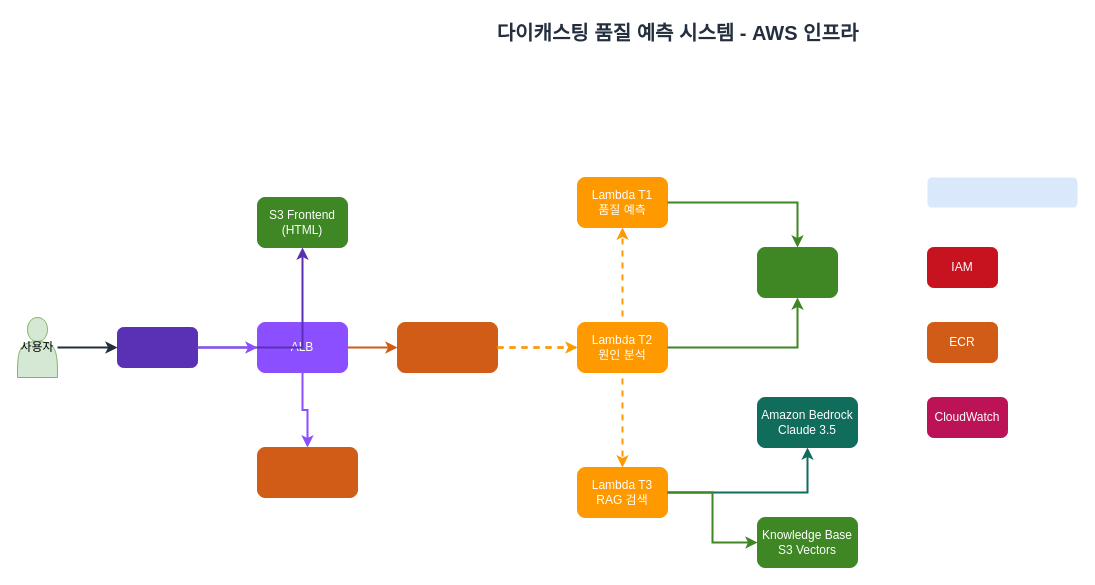
Image size: 1095x585. Some labels were removed from this diagram. Here are the shapes that lost their labels. From the top down, the centre of each, then its label:
[1002,192]: 월간 비용: $16.48 (1K req)
[797,272]: S3 Models
[157,347]: CloudFront
[447,347]: ECS Fargate Backend Agent
[307,472]: ECS Fargate Streamlit UI
